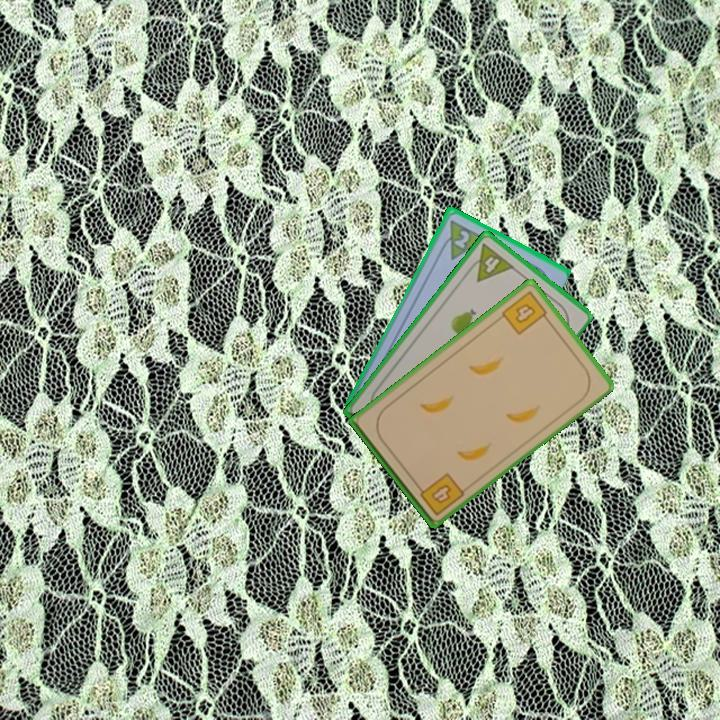2p: (435, 215, 486, 262)
4b: (498, 287, 553, 338), (413, 469, 467, 518)
4p: (462, 239, 517, 285)
